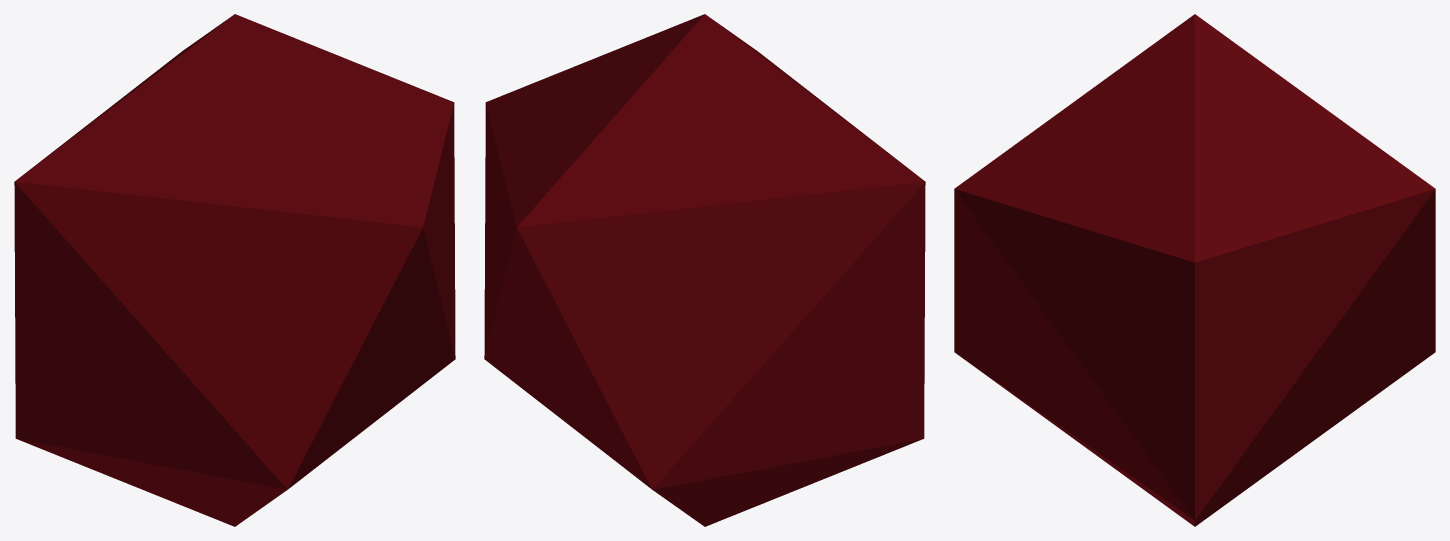
The model's file is redberry.dae.
3 renders of one model, left to right at view 1: azimuth 30°, elevation 25°; view 2: azimuth 150°, elevation 25°; view 3: azimuth 270°, elevation 25°, orthographic.
Visible parts, largest first — view 1: Icosphere; view 2: Icosphere; view 3: Icosphere.
Boxes of the visible parts, x1=… form: Icosphere: x1=14, y1=14, x2=455, y2=526; Icosphere: x1=484, y1=14, x2=925, y2=526; Icosphere: x1=954, y1=14, x2=1435, y2=526.
Size of the model in its own units: 1.8 by 1.7 by 2.
